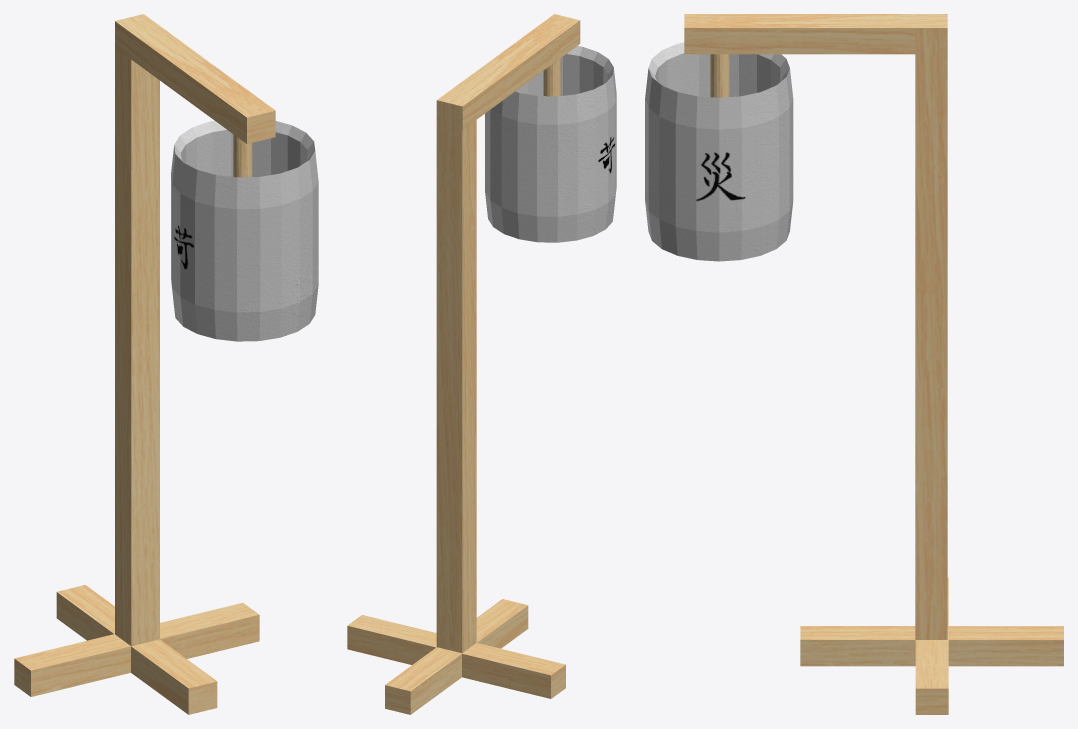
File: paperlantern (1).fbx
The picture shows the model from 3 angles, left to right: view 1: azimuth 30°, elevation 25°; view 2: azimuth 150°, elevation 25°; view 3: azimuth 270°, elevation 25°; orthographic projection. The views are drawn at different scales.
Parts seen in each view (by area): view 1: pCube6; view 2: pCube6; view 3: pCube6.
Boxes of the visible parts, x1=… form: pCube6: x1=14, y1=14, x2=318, y2=714; pCube6: x1=347, y1=14, x2=616, y2=714; pCube6: x1=645, y1=14, x2=1063, y2=714.
Size of the model in its own units: 15.63 by 41.8 by 24.86.
Materials: 1 (1 with a texture image).
